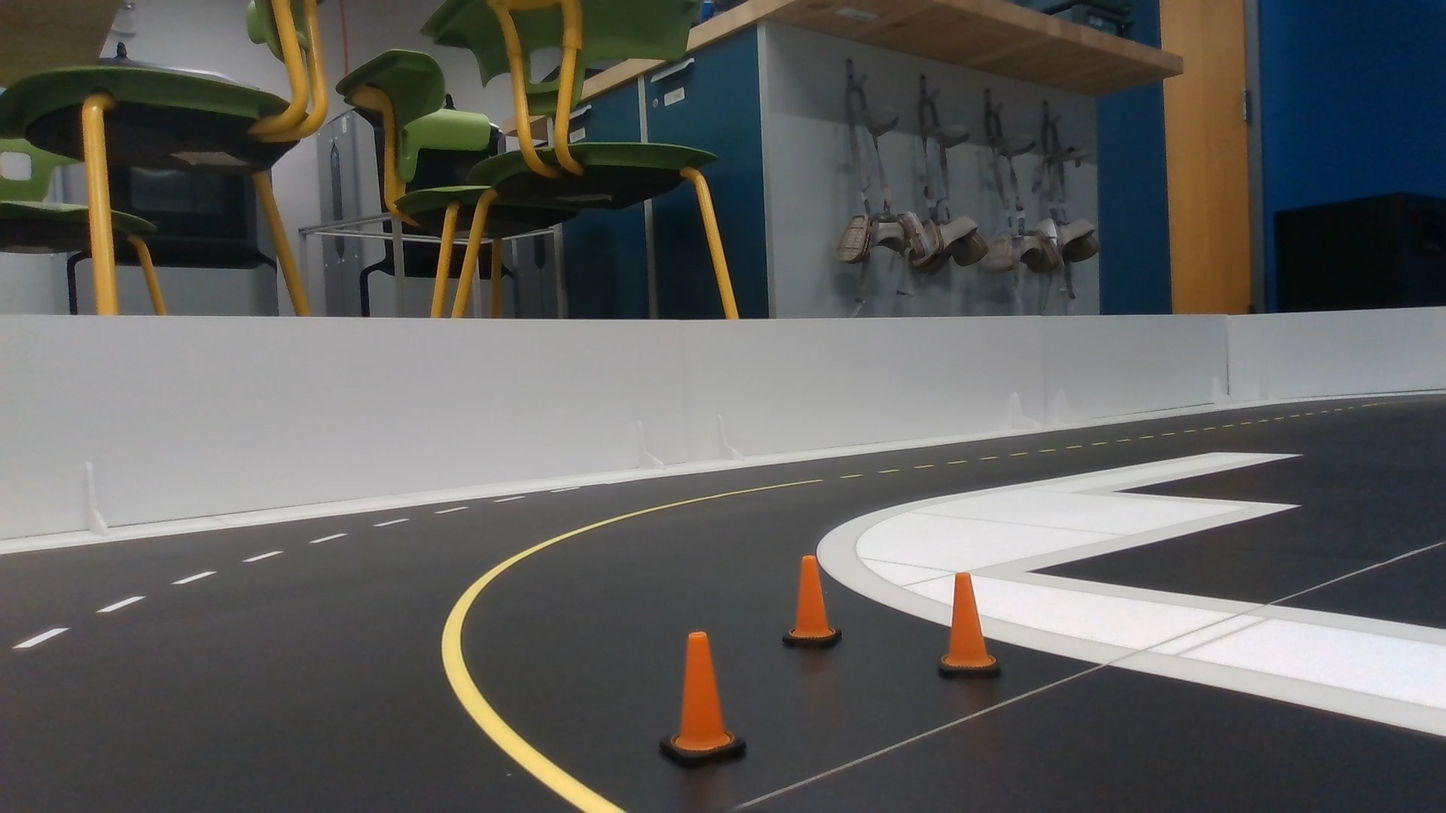Traffic Cone: (660, 632, 746, 766), (938, 573, 999, 677), (782, 555, 840, 647)
